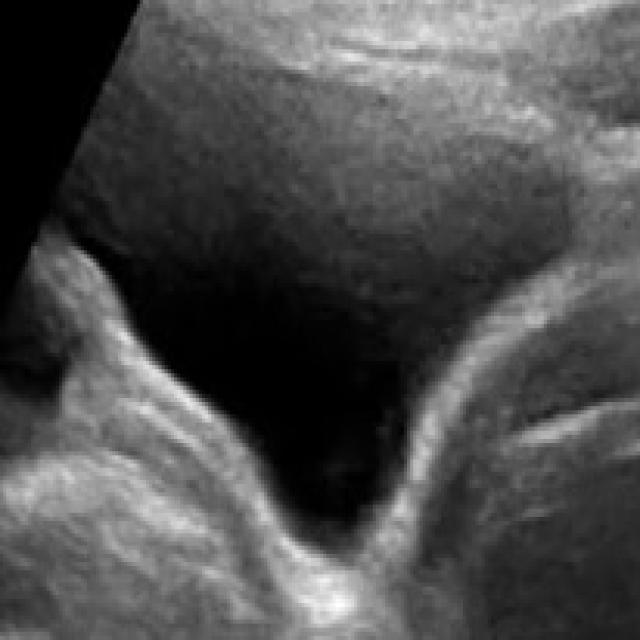bladder: (37, 4, 616, 600)
